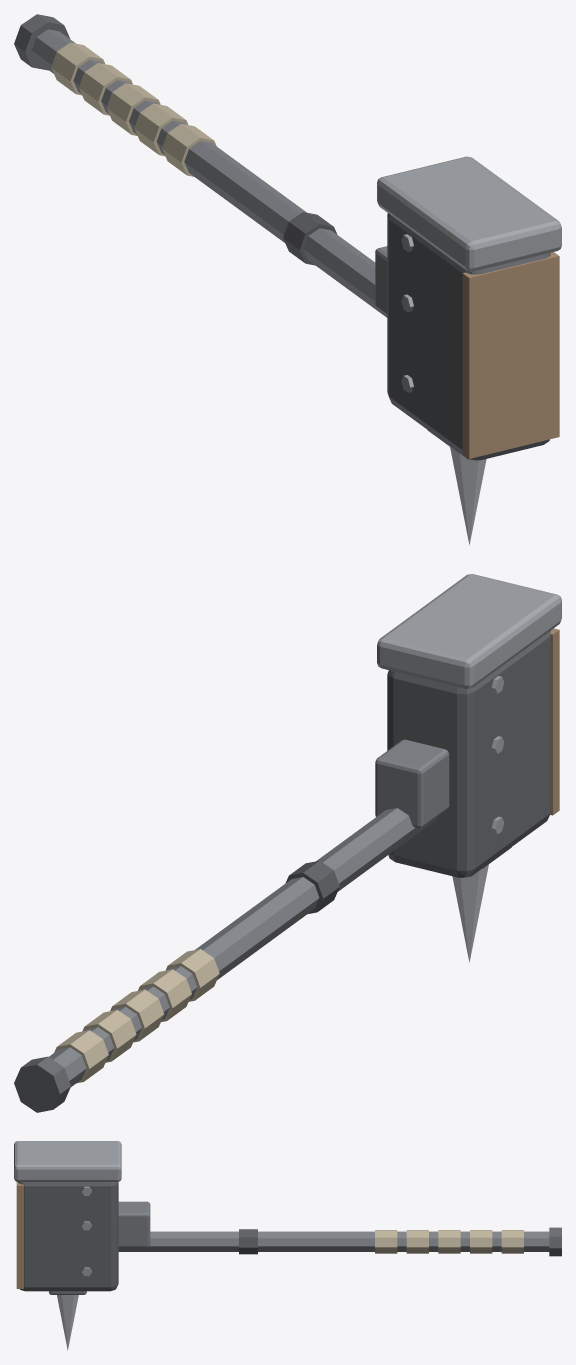
File: weapon_railspike_maul.fbx
3 renders of one model, top to bottom at view 1: azimuth 30°, elevation 25°; view 2: azimuth 150°, elevation 25°; view 3: azimuth 270°, elevation 25°, orthographic. The views are drawn at different scales.
Visible parts, largest first — view 1: weapon_railspike_maul; view 2: weapon_railspike_maul; view 3: weapon_railspike_maul.
Part boxes in pixels (bbox=[...]): weapon_railspike_maul: bbox=[14, 14, 561, 545]; weapon_railspike_maul: bbox=[14, 574, 561, 1112]; weapon_railspike_maul: bbox=[14, 1141, 561, 1350].
Size of the model in its own units: 0.1 by 0.345 by 0.865.
